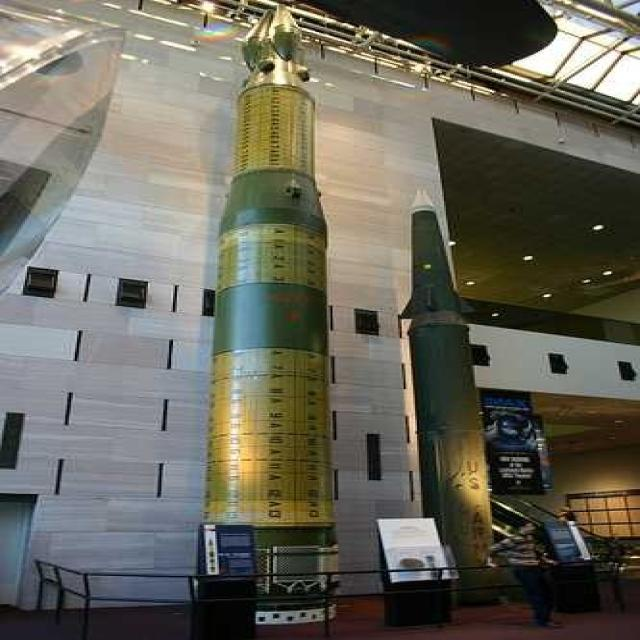missile: (182, 11, 352, 619), (400, 185, 503, 577)
